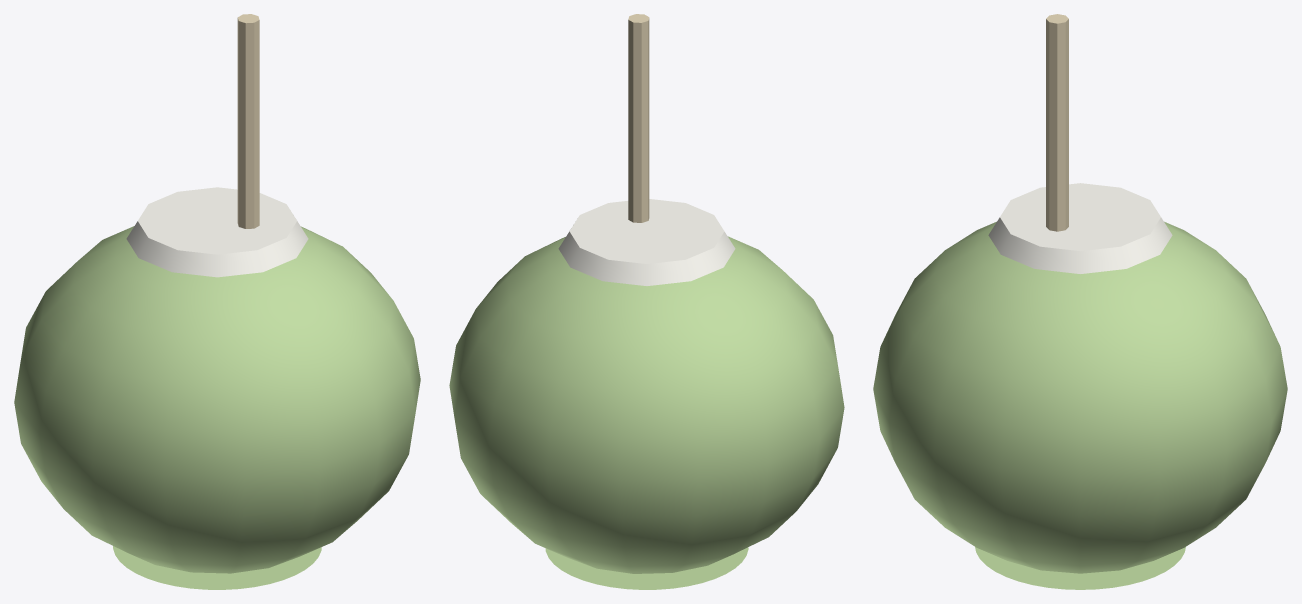
The model's file is trai_dua_xiem.glb.
3 views of the same model, side by side, from view 1: azimuth 30°, elevation 25°; view 2: azimuth 150°, elevation 25°; view 3: azimuth 270°, elevation 25° (orthographic). The views are drawn at different scales.
Parts seen in each view (by area): view 1: trai_dua_xiem.001, dua_base; view 2: trai_dua_xiem.001, dua_base; view 3: trai_dua_xiem.001, dua_base.
Boxes of the visible parts, x1=… form: trai_dua_xiem.001: x1=14, y1=14, x2=420, y2=573; dua_base: x1=113, y1=546, x2=321, y2=589; trai_dua_xiem.001: x1=449, y1=14, x2=844, y2=573; dua_base: x1=545, y1=547, x2=748, y2=589; trai_dua_xiem.001: x1=873, y1=14, x2=1287, y2=573; dua_base: x1=975, y1=547, x2=1185, y2=589.
Bounding box in the file's own units: 0.18 × 0.2573 × 0.18.
